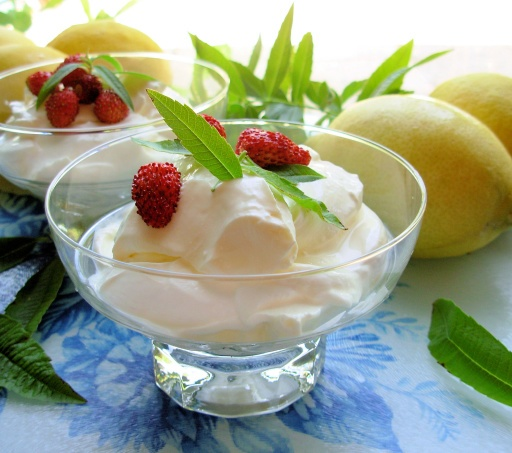background: (0, 13, 410, 244)
